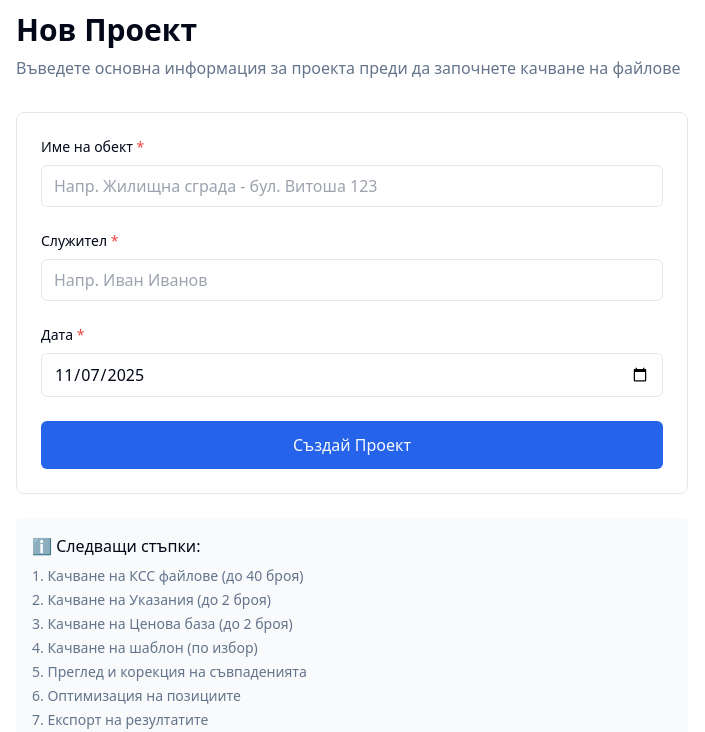
Test: SetupPage › displays error message when project creation fails
Fill in the form
Type "Test Object" into the field labelled "Име на обект *". click: (352, 186)
box: [41,165,663,207]
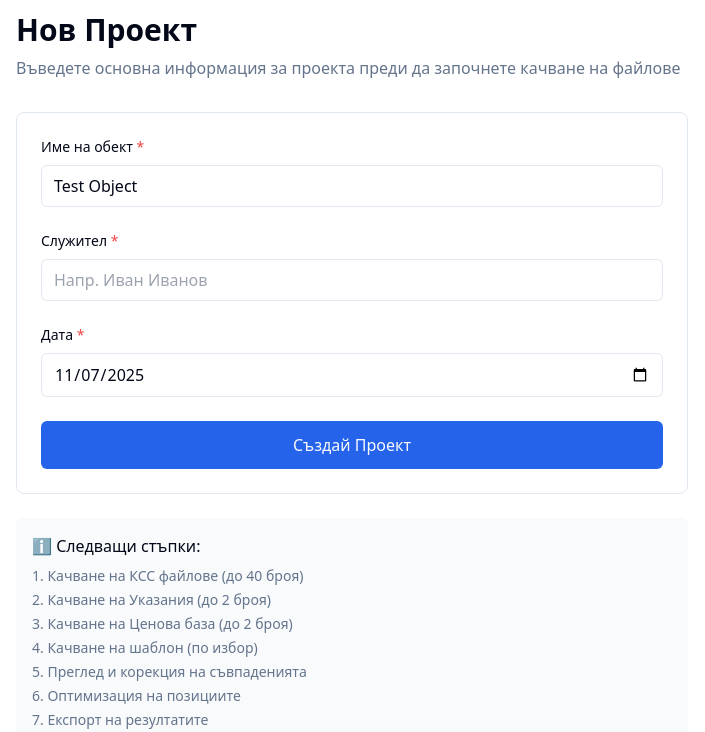
Type "John Doe" into the field labelled "Служител *". click: (352, 280)
box: [41,259,663,301]
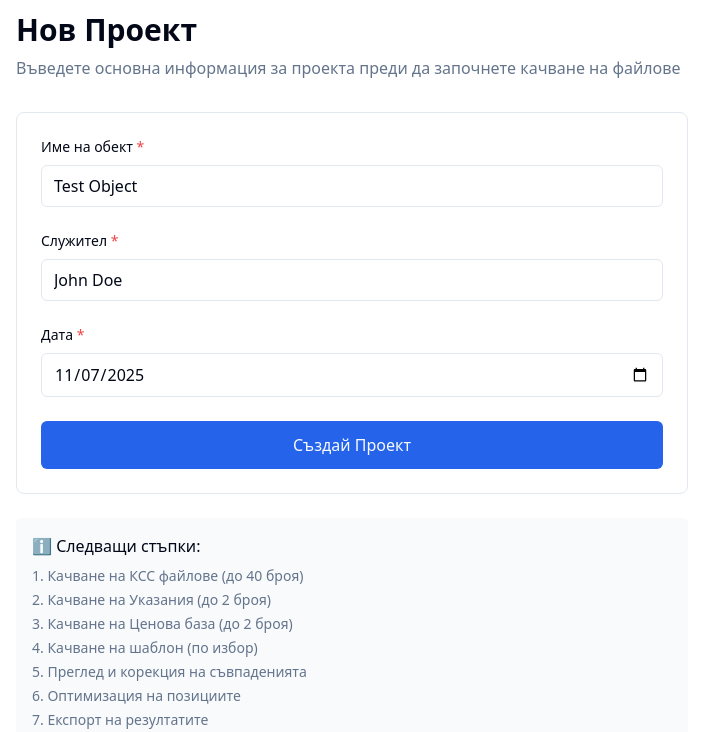
Submit the form
Click the button "Създай Проект". click: (352, 445)
box: [41,421,663,469]
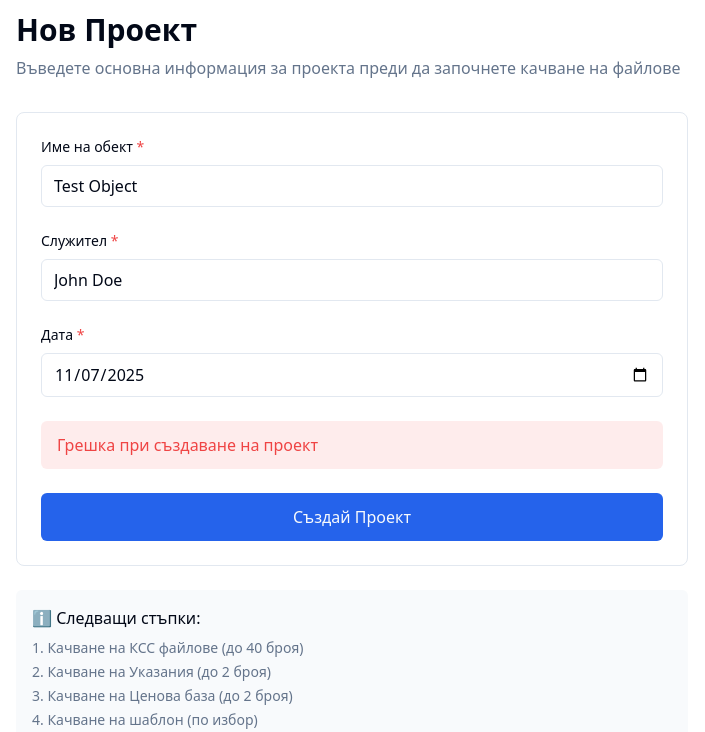
Now the text "Грешка при създаване на проект" is shown, box [41,421,663,469]
